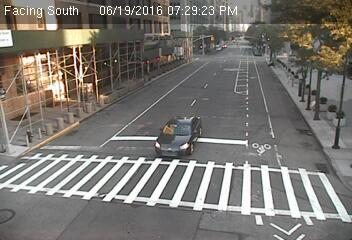neg: (142, 125, 172, 166), (193, 187, 220, 223), (289, 31, 316, 66), (283, 73, 309, 107), (71, 141, 96, 174), (267, 134, 291, 167), (147, 48, 171, 80), (32, 71, 56, 102), (209, 107, 232, 139), (30, 169, 53, 200), (96, 63, 118, 93), (122, 189, 144, 219), (190, 71, 212, 100), (317, 147, 337, 174), (229, 58, 248, 83), (57, 118, 74, 141), (319, 104, 335, 125)
